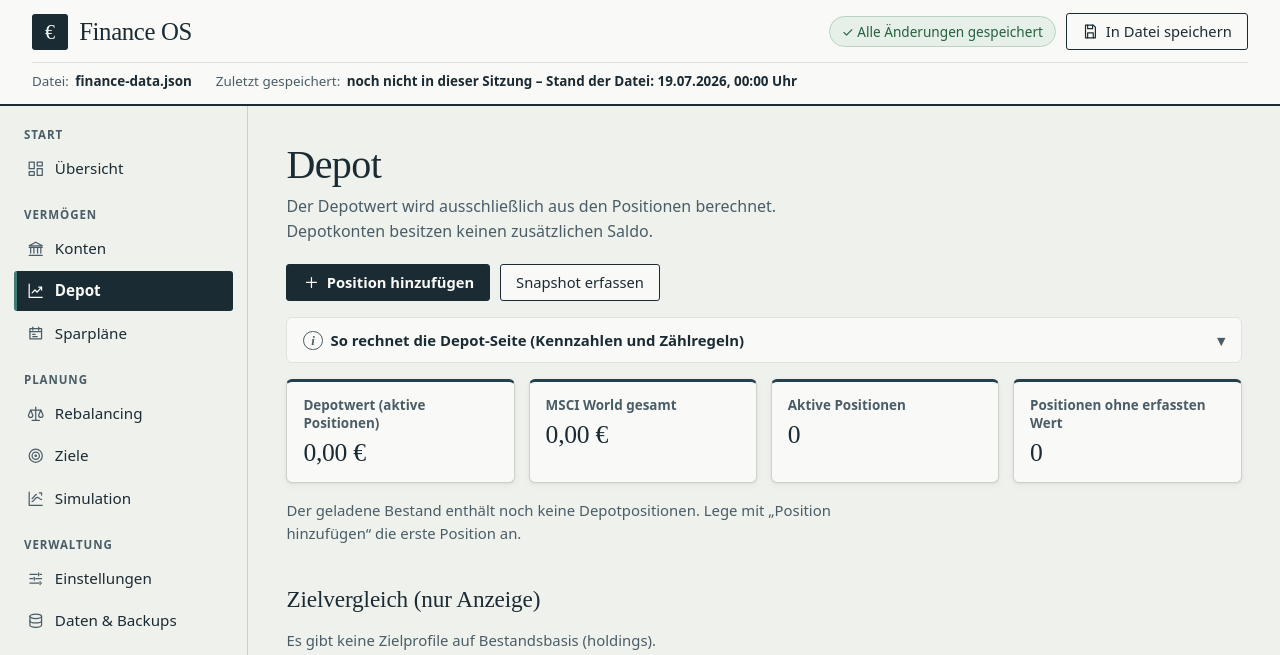
Scenario: DepotPage – Leerzustände › ohne Depotkonto: Kacheln zeigen 0,00 € (Summe 0, nie „unbekannt“), Anlegen scheitert verständlich, nichts wird geändert
The image size is (1280, 655).
Expected: the text "0,00 €" below "Depotwert (aktive Positionen)" is shown, top-left (303, 438), bottom-right (366, 467)
Expected: the text "0,00 €" below "MSCI World gesamt" is shown, top-left (546, 420), bottom-right (608, 448)
# Formular öffnen: die Depotkonto-Auswahl ist leer (kein Konto erfindbar).
Click the button "Position hinzufügen" at {"x": 388, "y": 283}, box top-left (286, 264), bottom-right (490, 301)
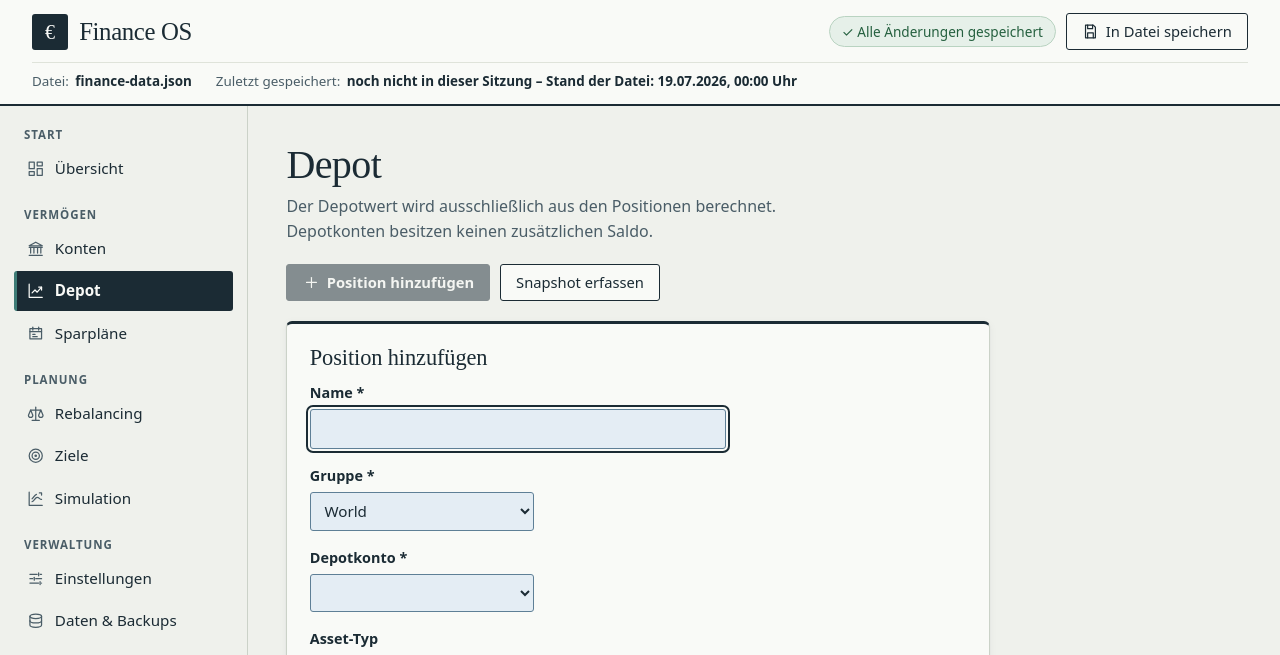
# Anlegen ohne Depotkonto: feldbezogene Ablehnung der Datenfunktion (B1), keine Änderung.
Type "Testposition" into the field labelled "Name *" at {"x": 518, "y": 429}, box top-left (310, 409), bottom-right (726, 449)
(page scrolled)
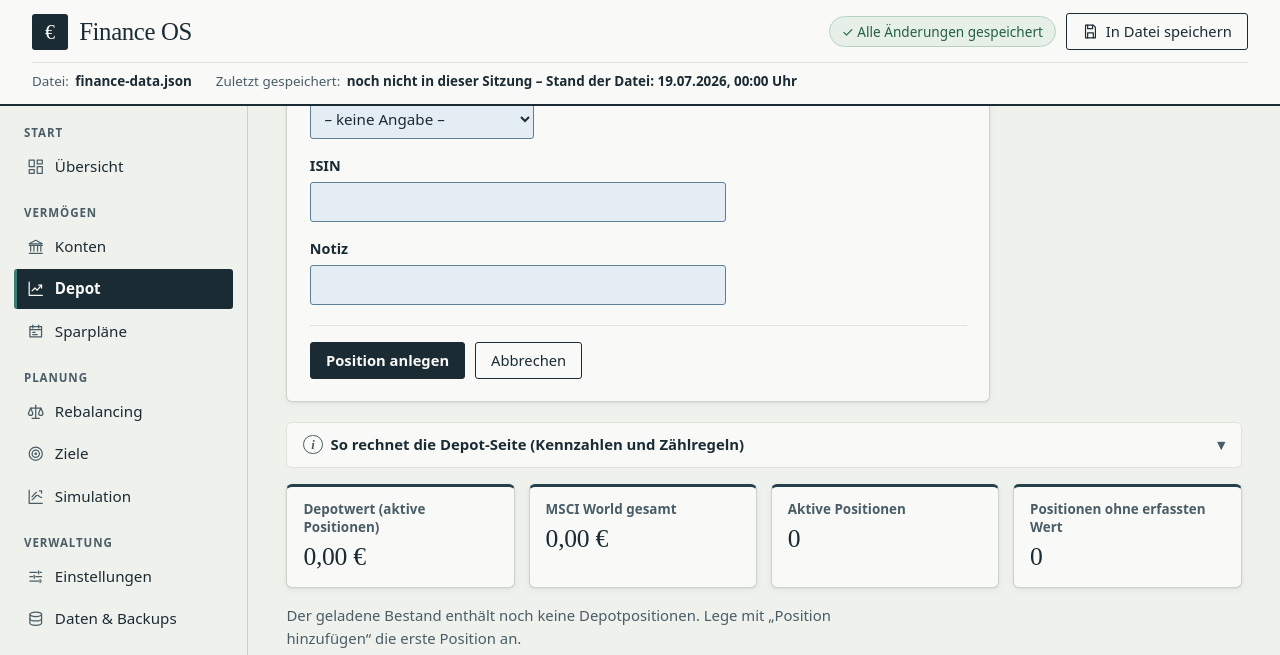
Click the button "Position anlegen" at {"x": 388, "y": 360}, box top-left (310, 342), bottom-right (465, 379)
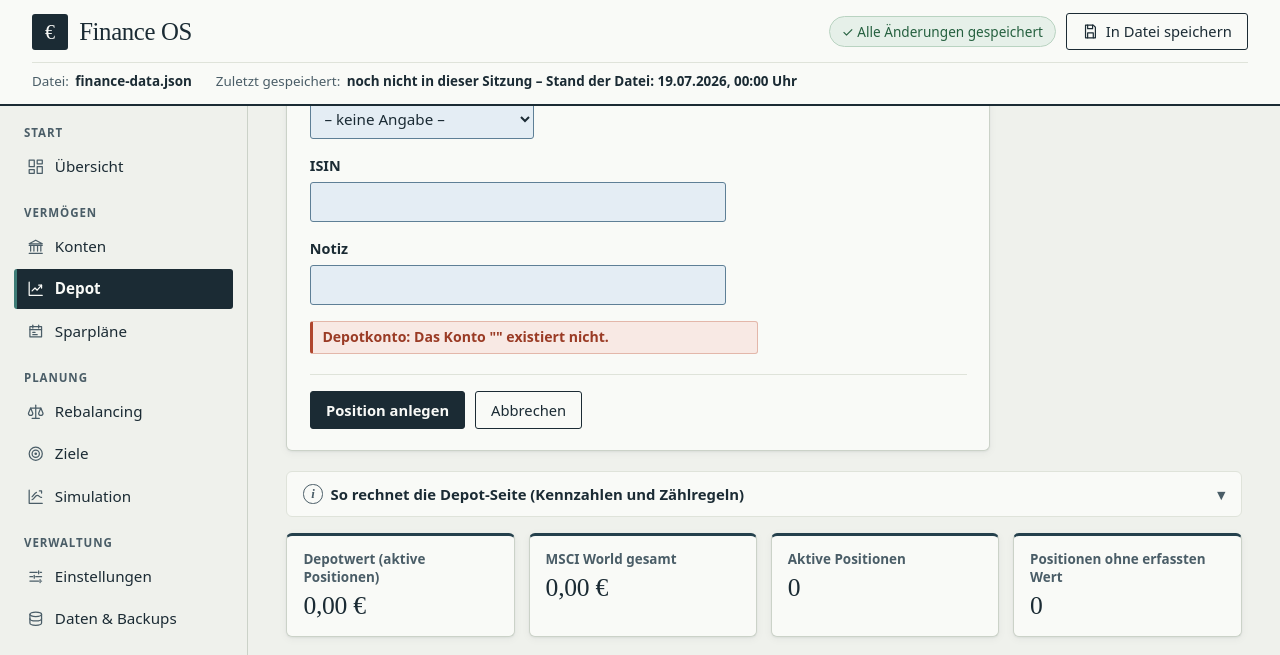
Expected: the text "Depotkonto: Das Konto \"\" existiert nicht." is shown, top-left (310, 321), bottom-right (758, 354)
